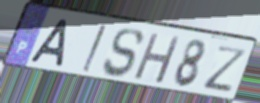8: (174, 38, 209, 90)
A: (27, 18, 72, 69)
H: (131, 31, 183, 86)
I: (79, 23, 108, 75)
S: (101, 28, 146, 79)
Z: (202, 44, 250, 94)
